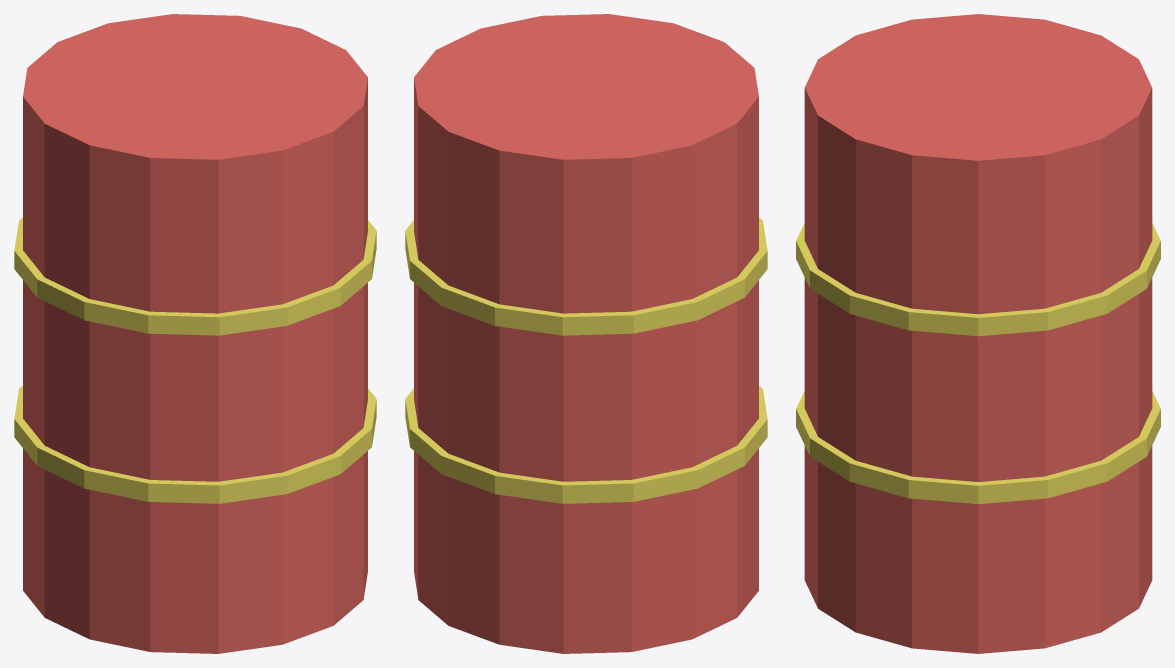
Rendered from Prop_Barrel_Red_Explosive.fbx.
The picture shows the model from 3 angles, left to right: view 1: azimuth 30°, elevation 25°; view 2: azimuth 150°, elevation 25°; view 3: azimuth 270°, elevation 25°; orthographic projection.
Parts seen in each view (by area): view 1: Prop_Barrel_Red_Explosive; view 2: Prop_Barrel_Red_Explosive; view 3: Prop_Barrel_Red_Explosive.
Boxes of the visible parts, x1,y1,x2,y2 form: Prop_Barrel_Red_Explosive: (14, 14, 376, 653); Prop_Barrel_Red_Explosive: (405, 14, 767, 653); Prop_Barrel_Red_Explosive: (796, 14, 1160, 653).
Size of the model in its own units: 0.63 by 0.94 by 0.63.
